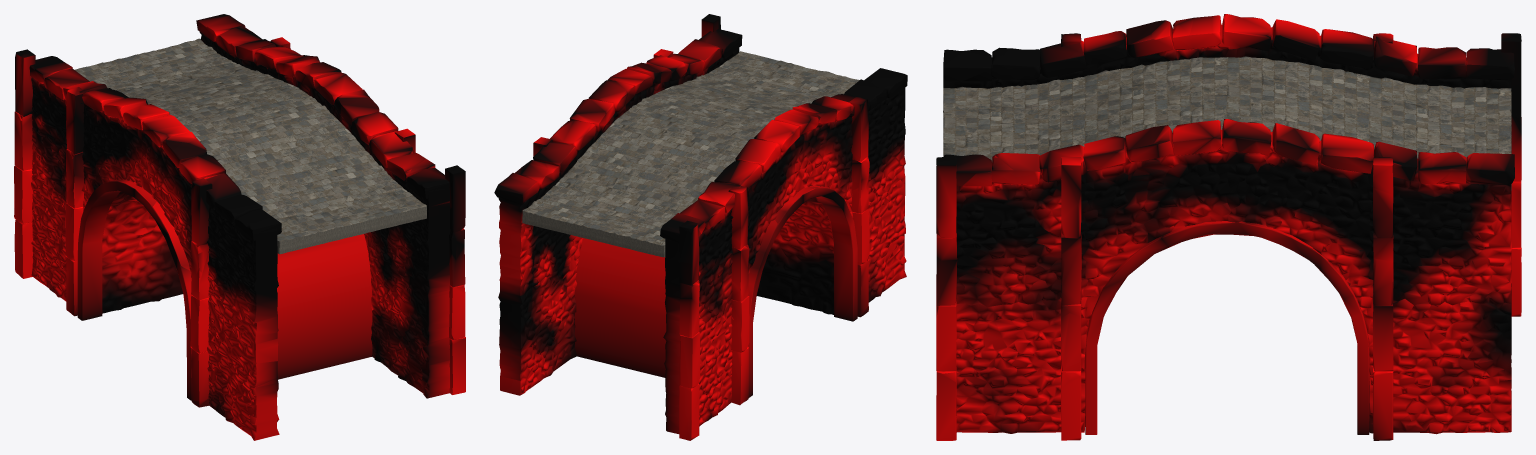
Rendered from SM_Bridge_Small_01.fbx.
The picture shows the model from 3 angles, left to right: view 1: azimuth 30°, elevation 25°; view 2: azimuth 150°, elevation 25°; view 3: azimuth 270°, elevation 25°; orthographic projection. The views are drawn at different scales.
Parts seen in each view (by area): view 1: SM_Bridge_Small_01_LOD0; view 2: SM_Bridge_Small_01_LOD0; view 3: SM_Bridge_Small_01_LOD0.
Part boxes in pixels (x1,y1,x2,y2): SM_Bridge_Small_01_LOD0: (14, 14, 465, 440); SM_Bridge_Small_01_LOD0: (494, 14, 907, 440); SM_Bridge_Small_01_LOD0: (936, 14, 1521, 440).
Bounding box in the file's own units: 885 × 1649 × 932.
